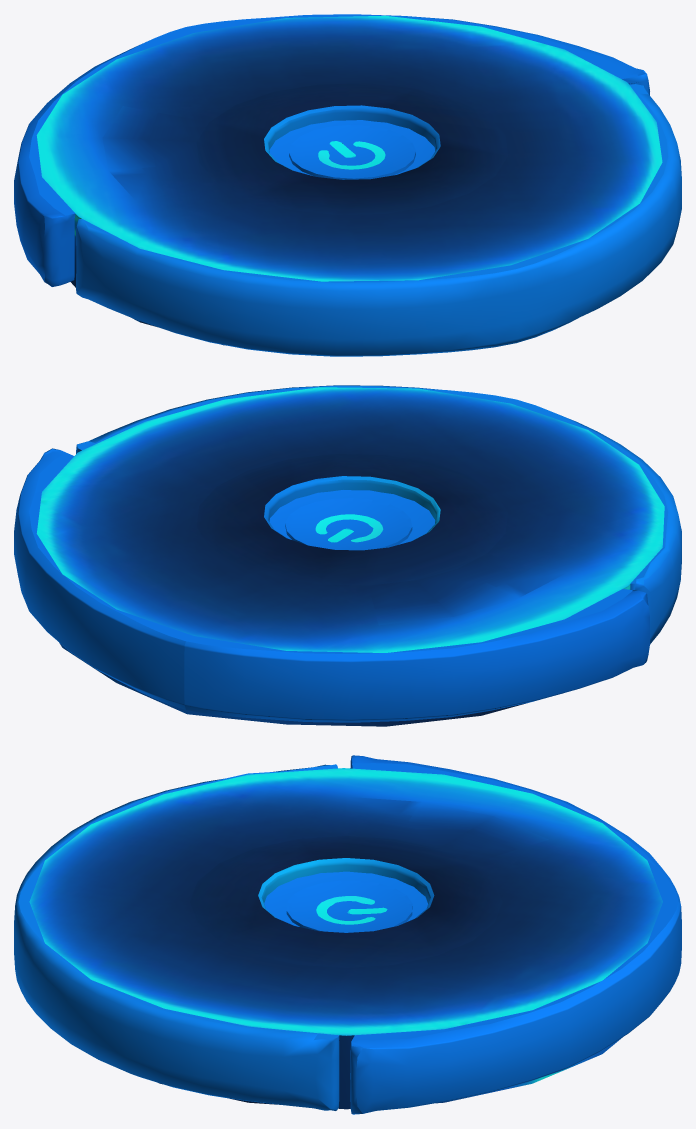
Rendered from RoombaBlue.fbx.
The picture shows the model from 3 angles, top to bottom: view 1: azimuth 30°, elevation 25°; view 2: azimuth 150°, elevation 25°; view 3: azimuth 270°, elevation 25°; orthographic projection.
Visible parts, largest first — view 1: polySurface43; view 2: polySurface43; view 3: polySurface43.
Part boxes in pixels (x1=…): polySurface43: x1=14, y1=14, x2=681, y2=356; polySurface43: x1=14, y1=385, x2=681, y2=726; polySurface43: x1=14, y1=755, x2=681, y2=1114.
Bounding box in the file's own units: 54.53 × 7.09 × 52.11.
